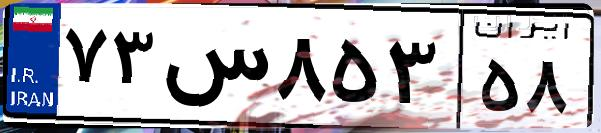3: (385, 28, 445, 110), (110, 28, 158, 98)
5: (330, 28, 385, 110), (475, 38, 525, 113)
7: (57, 26, 110, 100)
8: (270, 28, 330, 110), (525, 38, 570, 115)
س: (158, 20, 270, 120)
